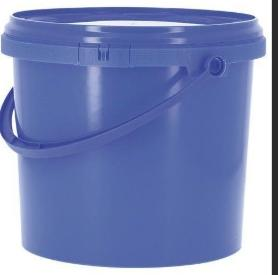SEAU: (0, 0, 269, 275)
